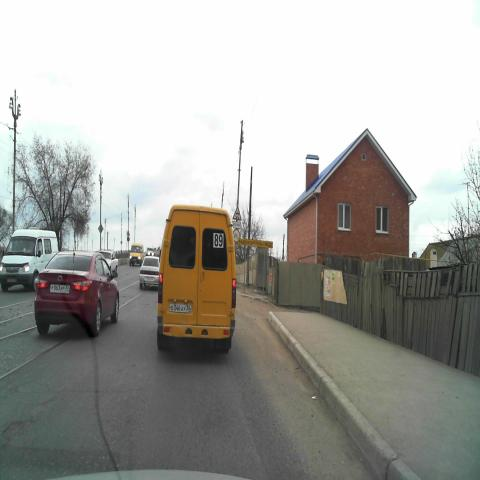1_15: (233, 206, 241, 219)
3_11: (232, 229, 241, 242)
